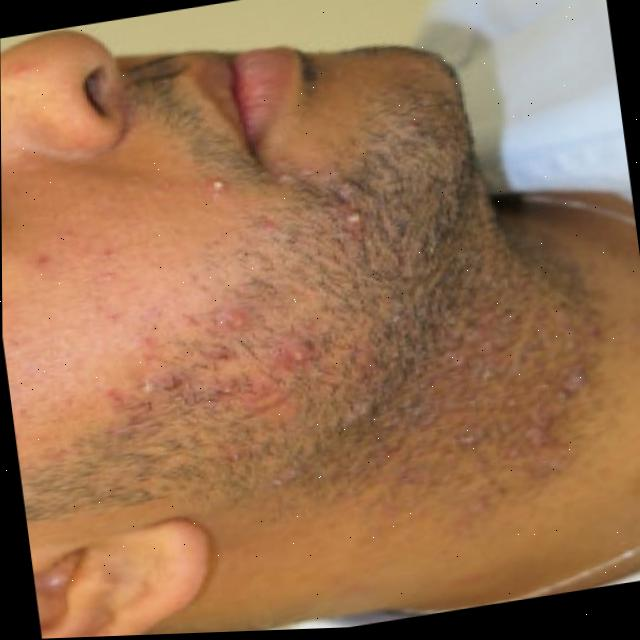Acne: (18, 143, 395, 459), (393, 274, 622, 531)
